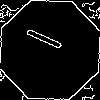I: (25, 25, 72, 56)
